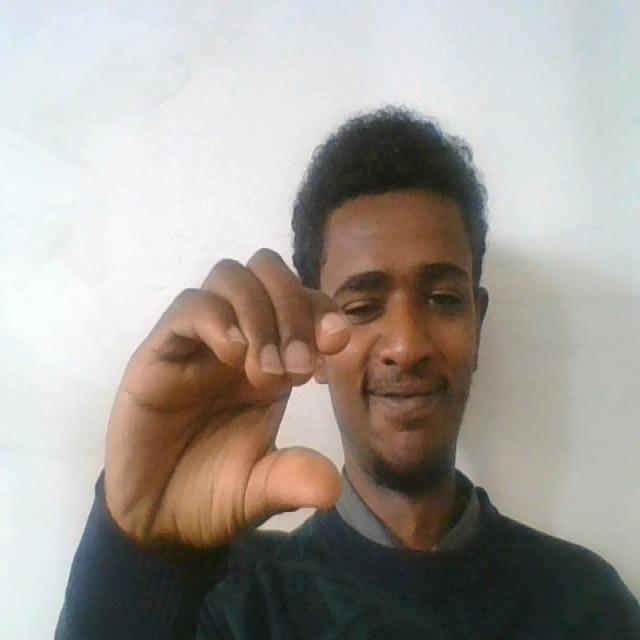no: (87, 239, 355, 551)
